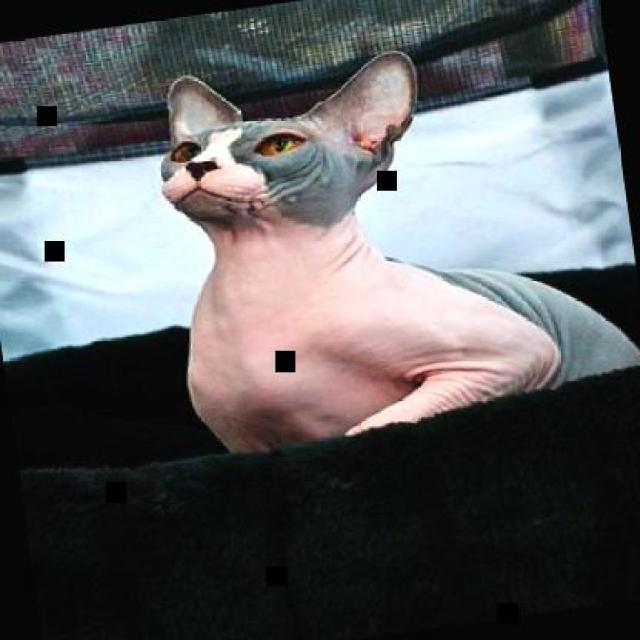cat: (142, 14, 638, 454)
